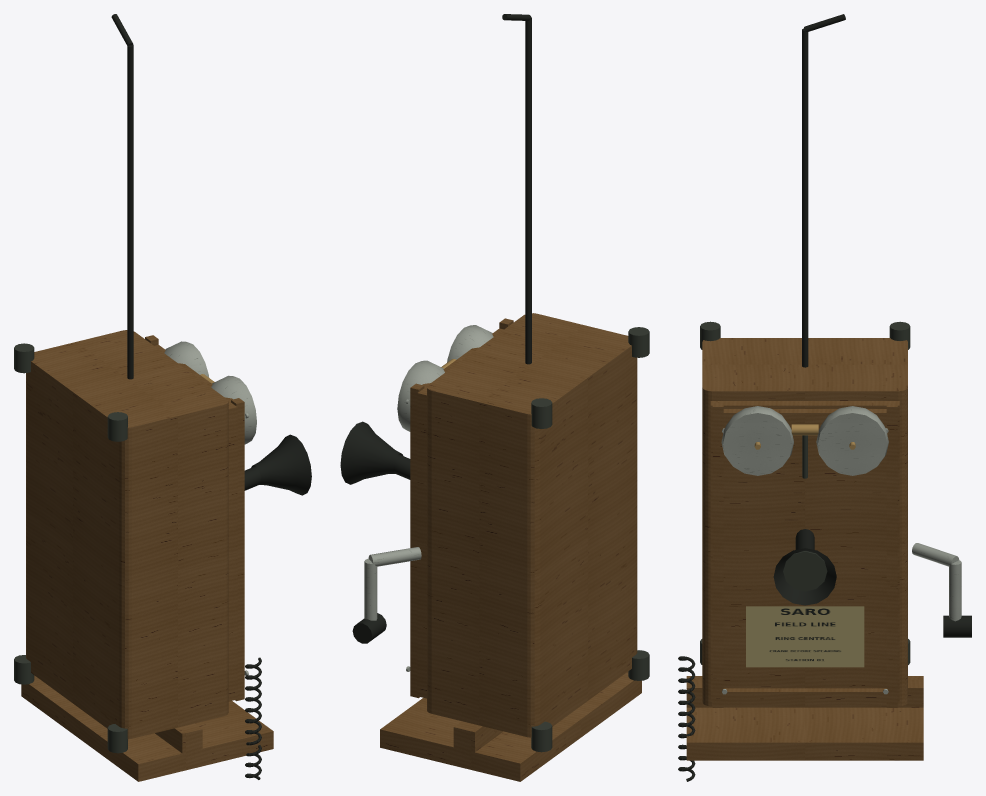
File: SM_FieldKit_FieldPhone.fbx
The picture shows the model from 3 angles, left to right: view 1: azimuth 30°, elevation 25°; view 2: azimuth 150°, elevation 25°; view 3: azimuth 270°, elevation 25°; orthographic projection. The views are drawn at different scales.
Visible parts, largest first — view 1: SM_FieldKit_FieldPhone; view 2: SM_FieldKit_FieldPhone; view 3: SM_FieldKit_FieldPhone.
Boxes of the visible parts, bbox=[...] form: SM_FieldKit_FieldPhone: bbox=[14, 14, 311, 781]; SM_FieldKit_FieldPhone: bbox=[340, 14, 649, 781]; SM_FieldKit_FieldPhone: bbox=[678, 14, 971, 781].
Size of the model in its own units: 0.346 by 0.3719 by 1.03.
